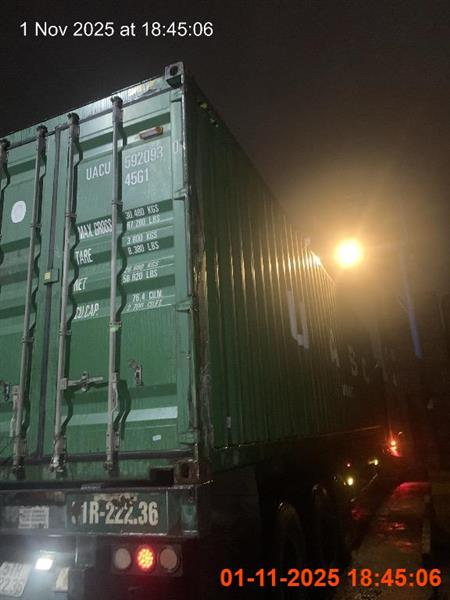hole: (0, 63, 422, 598)
